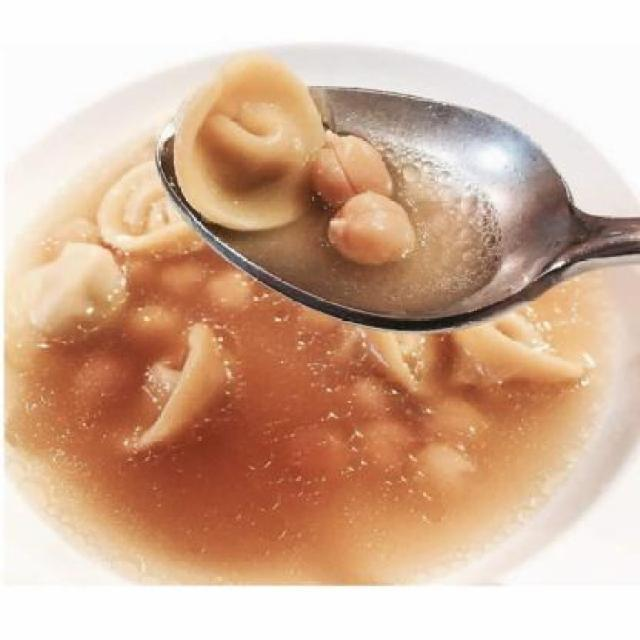Tortellini in broth: (149, 46, 548, 337)
